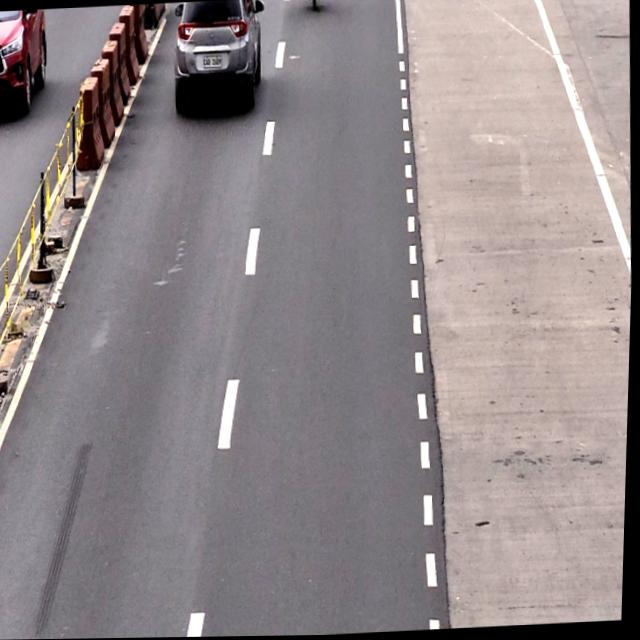Car: (172, 0, 265, 114)
License-Plate: (202, 56, 225, 69)
